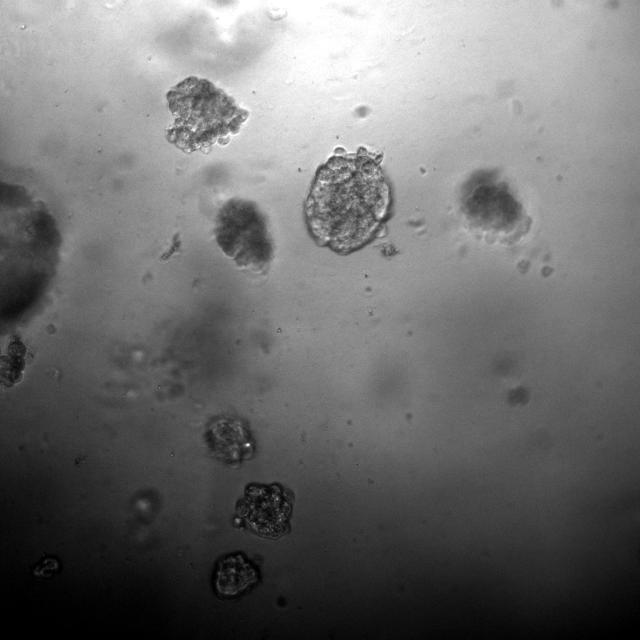organoid: (304, 145, 391, 254), (0, 180, 61, 334), (166, 78, 249, 152), (458, 169, 531, 245), (216, 199, 272, 265), (232, 483, 294, 539), (204, 414, 254, 466), (212, 552, 259, 598), (0, 336, 27, 388)
